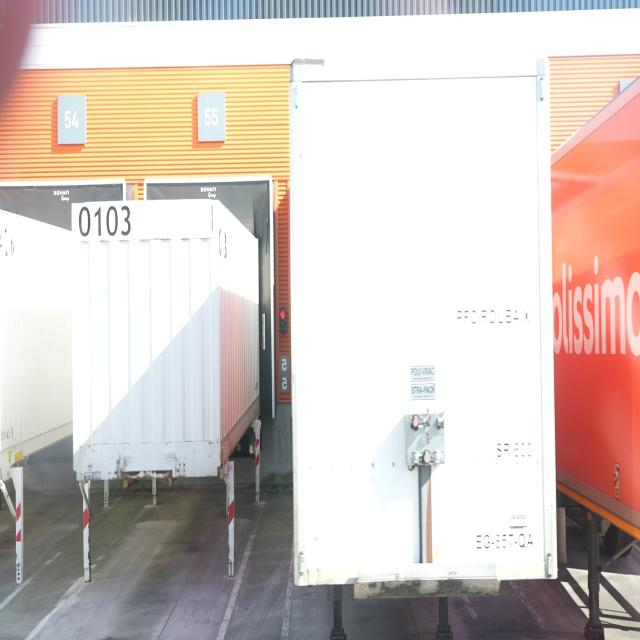Code: (76, 201, 134, 241)
